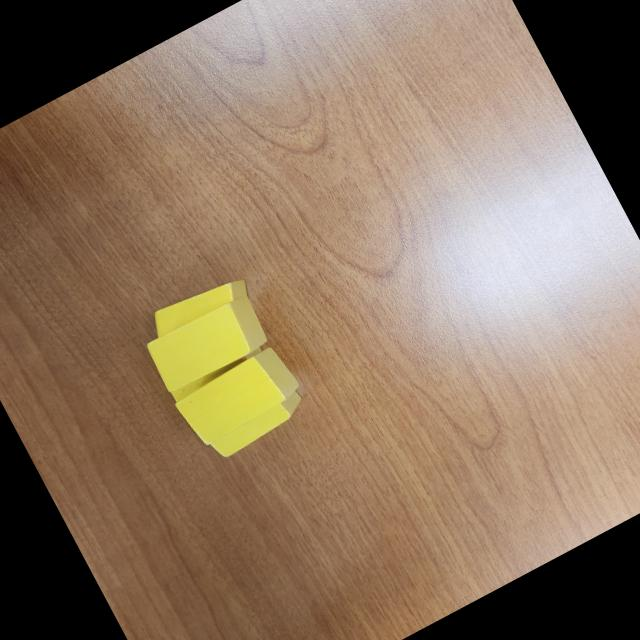yellow: (171, 340, 306, 450), (142, 290, 272, 396), (144, 266, 253, 342), (202, 388, 312, 463), (166, 340, 270, 408)
